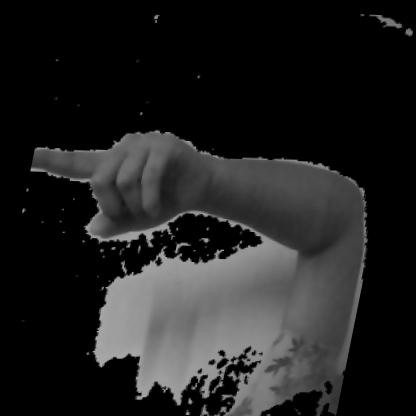one: (18, 36, 338, 280)
